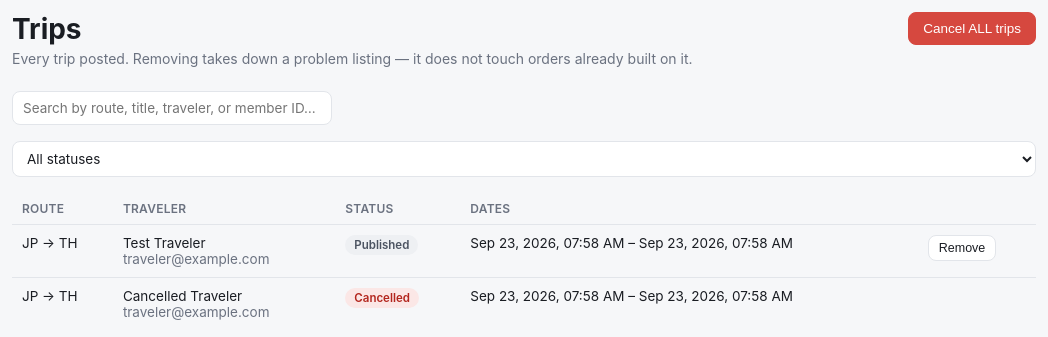
TripsPage filters › filters by status
Expected: the text "Test Traveler" is shown, [123, 235, 206, 251]
Expected: the text "Cancelled Traveler" is shown, [123, 288, 242, 304]
Select "Cancelled" in the dropdown showing "All statuses" at (524, 159), box [12, 141, 1036, 177]
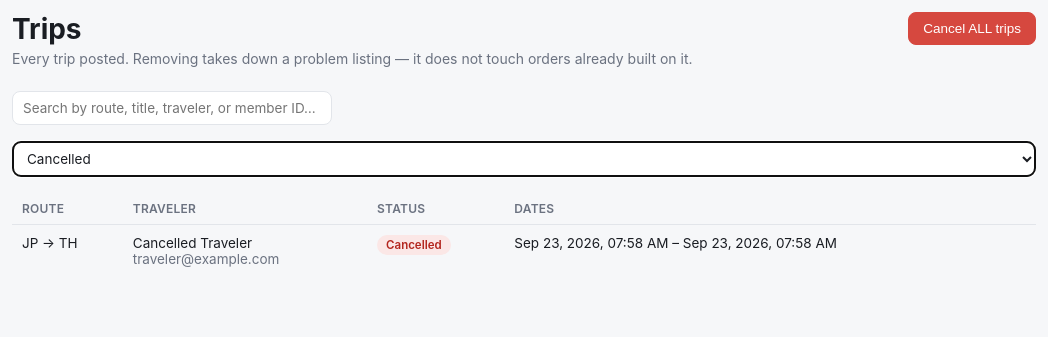
Expected: the text "Cancelled Traveler" is shown, [133, 235, 252, 251]
Result: the text "Test Traveler" is gone
